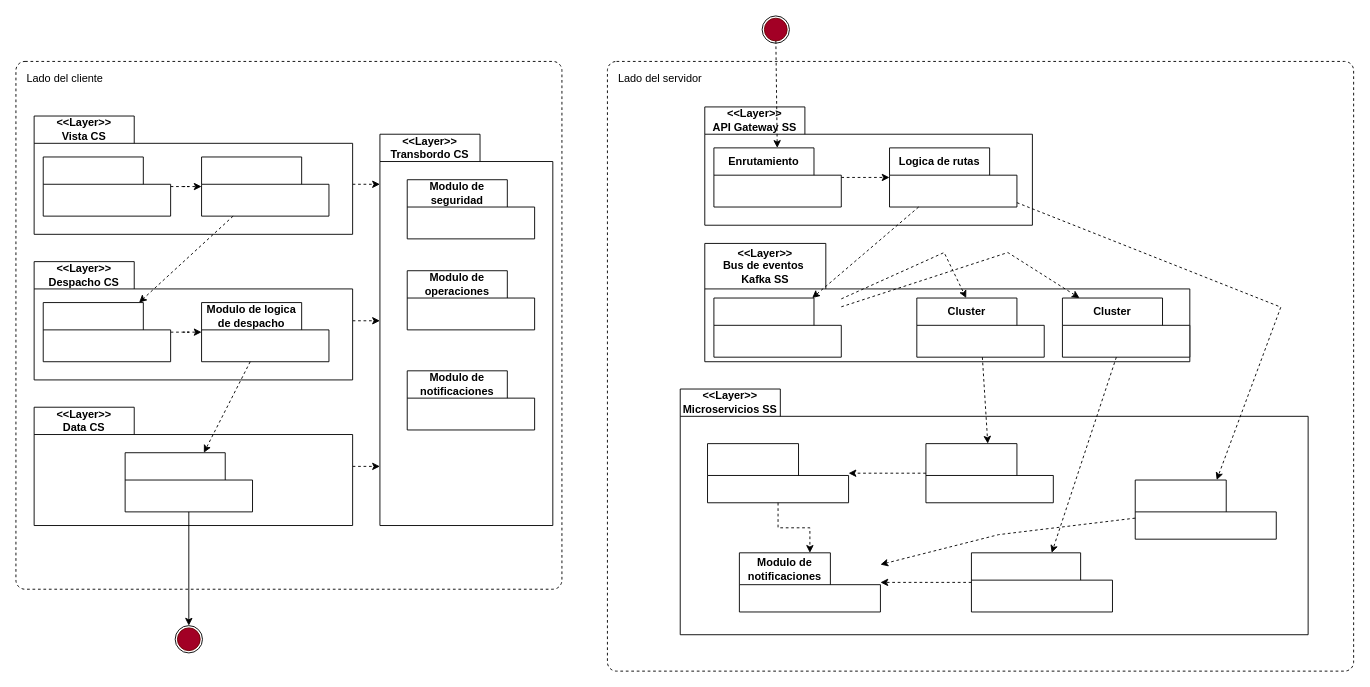
The diagram is 1370 pixels wide and 687 high, and some of its shapes have lost their labels. The centre of each missing label's shape, as x and y in pixels:
"Modulo de accesos" belongs at [1205,509].
"Modulo de colas" belongs at [778,473].
"Modulo de compras" belongs at [989,473].
"Modulo de despacho" belongs at [106,332].
"Modulo de eventos(conciertos)" belongs at [1041,582].
"Modulo de procesos UI" belongs at [265,186].
"Modulo de stores" belongs at [188,482].
"Modulo UI" belongs at [106,186].
"Zookeper" belongs at [777,327].
